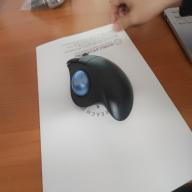mouse: (65, 51, 135, 124)
